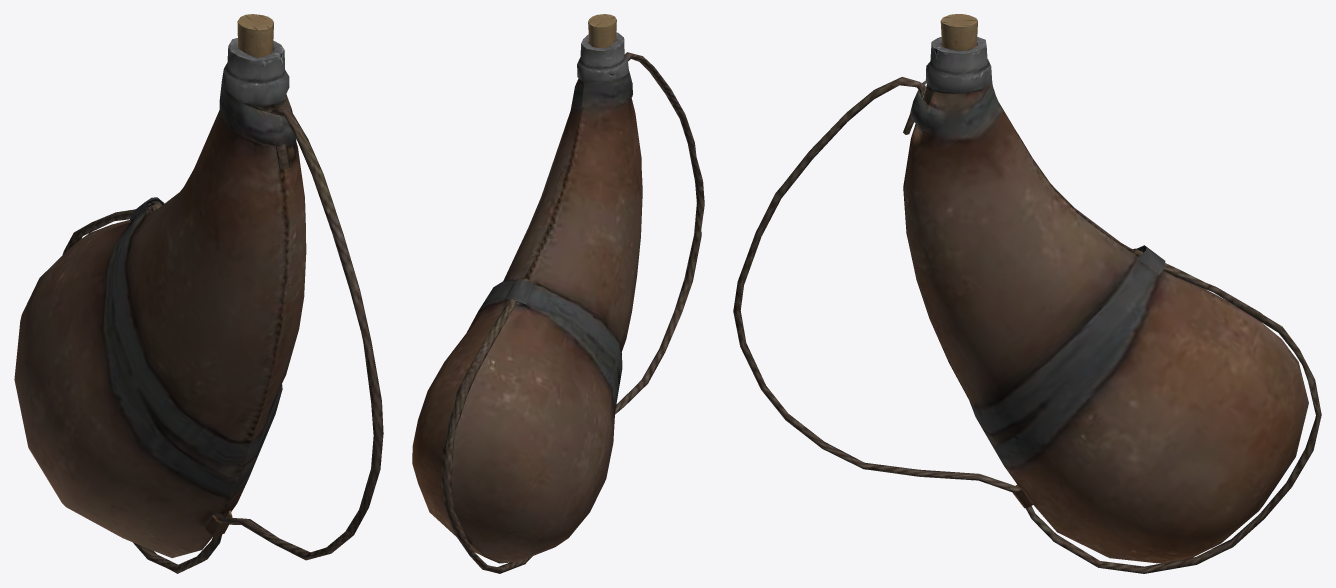
Rendered from bota_bag.worldmodel.glb.
3 renders of one model, left to right at view 1: azimuth 30°, elevation 25°; view 2: azimuth 150°, elevation 25°; view 3: azimuth 270°, elevation 25°, orthographic. The views are drawn at different scales.
Parts seen in each view (by area): view 1: w_bota_bag_LOD0; view 2: w_bota_bag_LOD0; view 3: w_bota_bag_LOD0.
Part boxes in pixels (x1=…): w_bota_bag_LOD0: x1=14, y1=14, x2=383, y2=573; w_bota_bag_LOD0: x1=412, y1=14, x2=704, y2=573; w_bota_bag_LOD0: x1=733, y1=14, x2=1321, y2=573.
Size of the model in its own units: 0.1199 by 0.3556 by 0.3428.
Materials: 1 (1 with a texture image).
